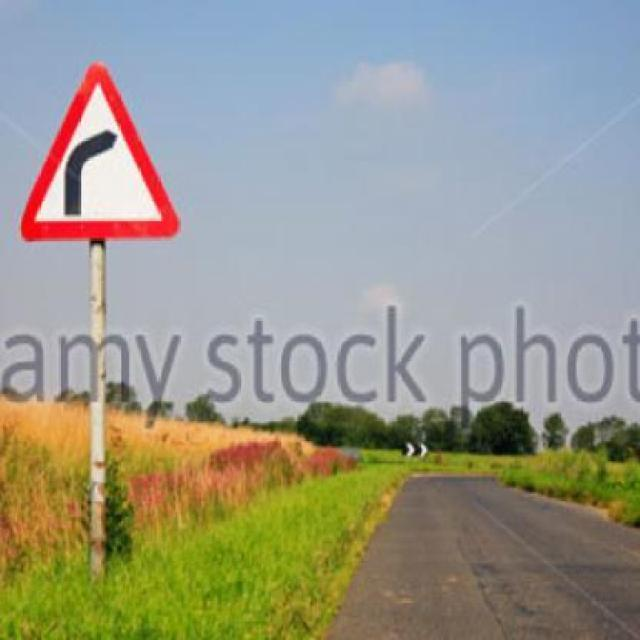warn_right_curve: (17, 55, 180, 243)
